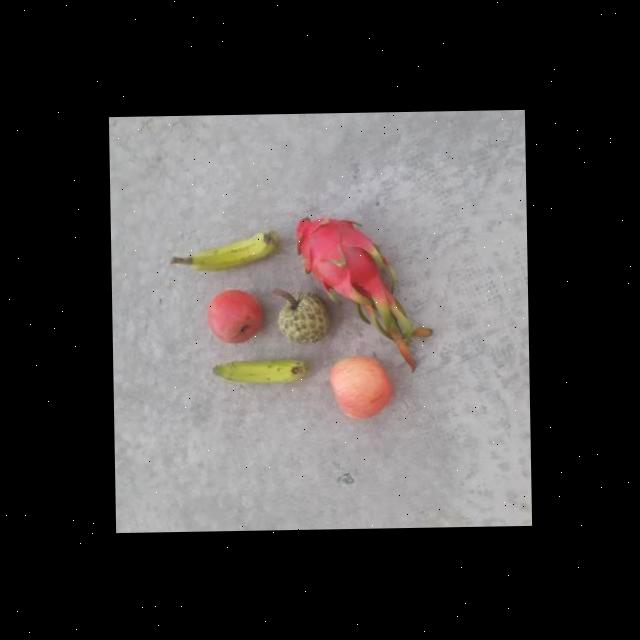Sakya fruit: (274, 288, 332, 343)
apple: (327, 354, 394, 421), (205, 285, 265, 346)
banana: (180, 228, 281, 274), (209, 352, 311, 392)
pitaya: (292, 212, 385, 292)
